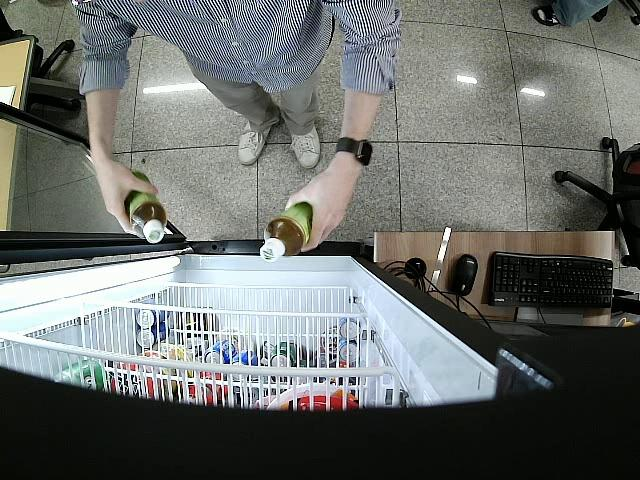00_hand: (94, 158, 159, 237), (284, 173, 348, 253)
19_17cha: (122, 171, 167, 243), (260, 202, 313, 262)
